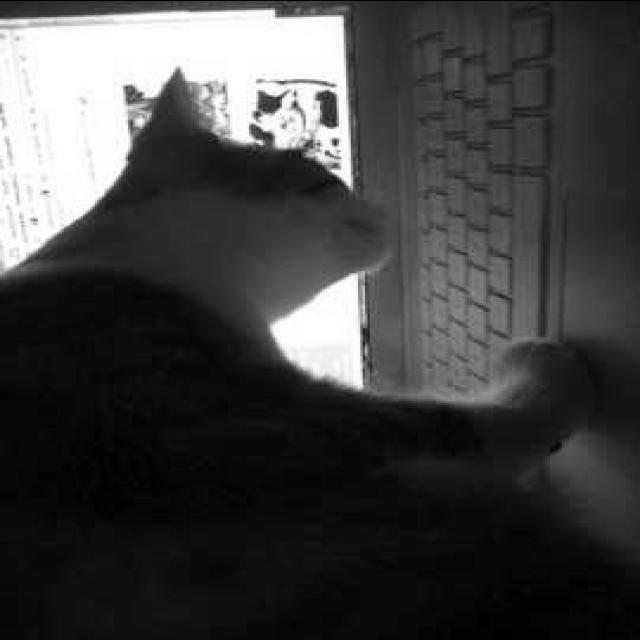laptop: (3, 7, 640, 410)
